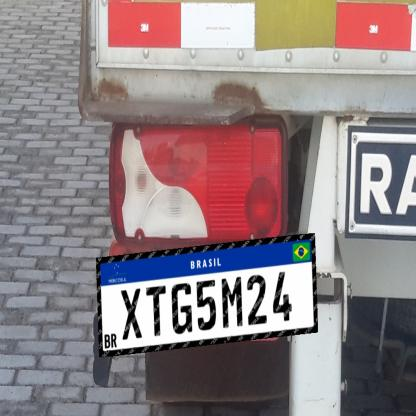PlacaM: (96, 233, 318, 357)
